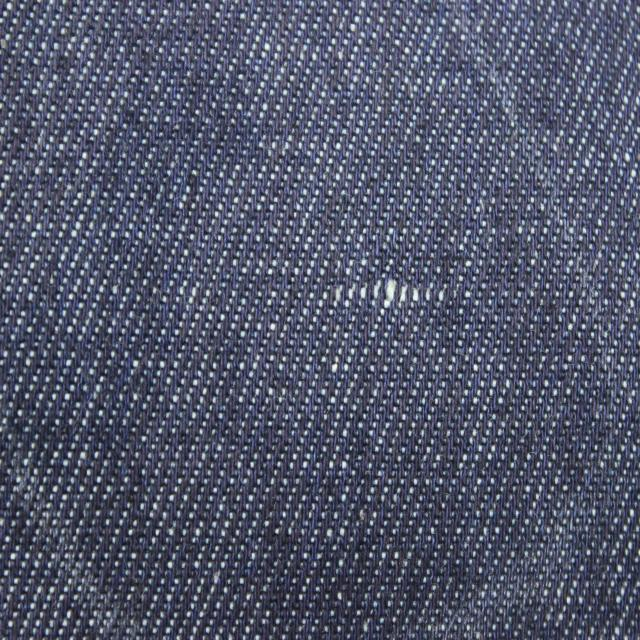pulled_or_thick_thread: (330, 280, 450, 304)
